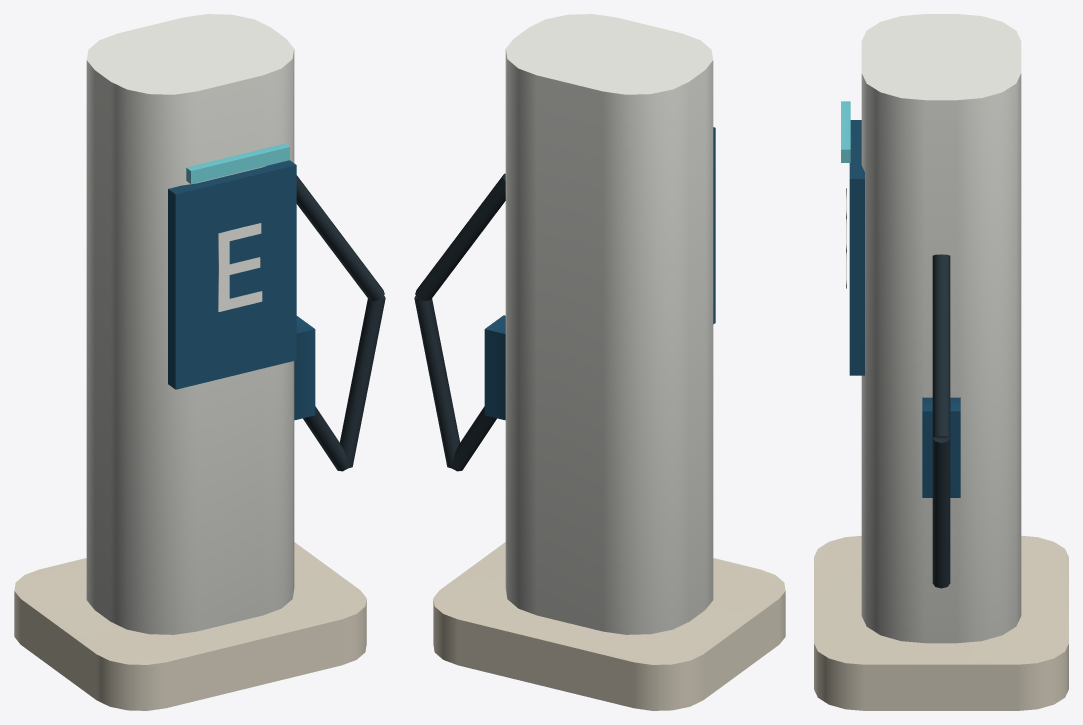
Rendered from ev-charger-low.glb.
3 views of the same model, side by side, from view 1: azimuth 30°, elevation 25°; view 2: azimuth 150°, elevation 25°; view 3: azimuth 270°, elevation 25° (orthographic).
Parts seen in each view (by area): view 1: charging pedestal, charger base, charging face, charging cable, charge status; view 2: charging pedestal, charger base, charging cable, charging face; view 3: charging pedestal, charger base, charging cable, charging face, charge status.
Boxes of the visible parts, box(x1,y1,x2,y2) form: charging pedestal: box(86, 14, 294, 634); charger base: box(14, 542, 366, 710); charging face: box(168, 160, 315, 420); charging cable: box(296, 175, 385, 471); charge status: box(186, 143, 289, 184); charging pedestal: box(505, 14, 713, 634); charger base: box(433, 542, 785, 710); charging cable: box(414, 173, 505, 471); charging face: box(484, 127, 715, 420); charging pedestal: box(846, 14, 1021, 643); charger base: box(814, 535, 1068, 710); charging cable: box(932, 254, 950, 588); charging face: box(849, 120, 960, 497); charge status: box(841, 101, 850, 162).
Bounding box in the file's own units: 0.5937 × 1.02 × 0.4.
